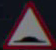Speed Breaker ahead: (7, 8, 44, 43)
